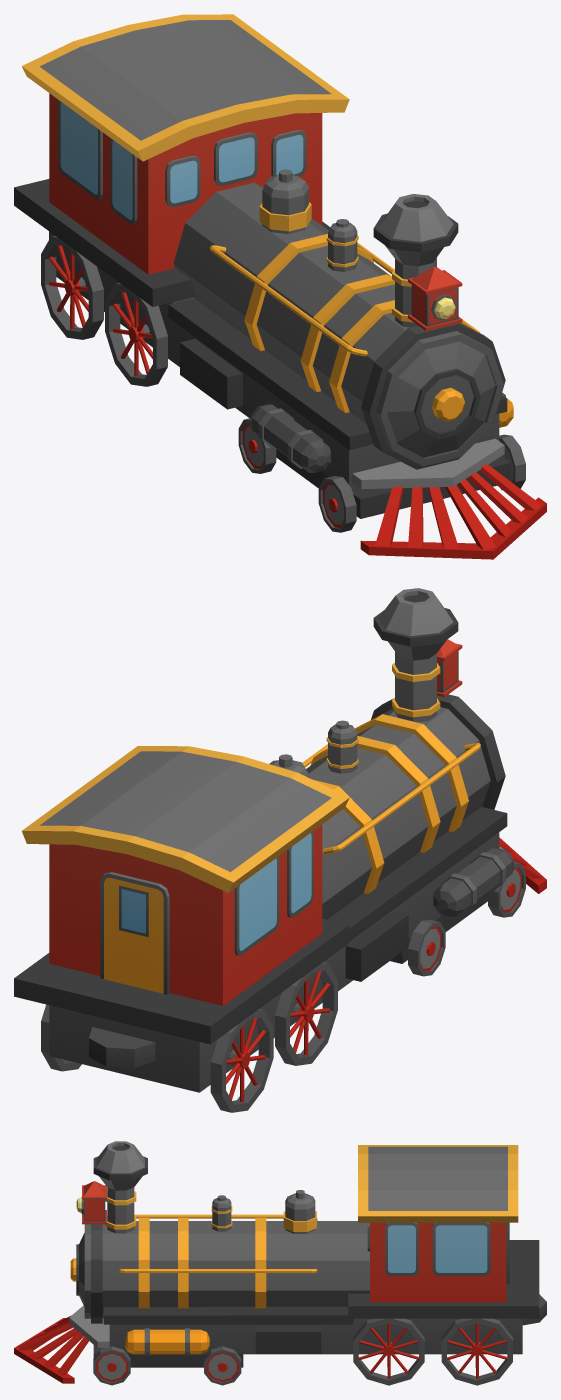
File: train.fbx
The picture shows the model from 3 angles, top to bottom: view 1: azimuth 30°, elevation 25°; view 2: azimuth 150°, elevation 25°; view 3: azimuth 270°, elevation 25°; orthographic projection. The views are drawn at different scales.
Parts seen in each view (by area): view 1: train body, rear wheels 1, rear wheels 2, front wheels 1, front wheels 2; view 2: train body, rear wheels 2, rear wheels 1, front wheels 2, front wheels 1; view 3: train body, rear wheels 1, rear wheels 2, front wheels 2, front wheels 1.
Part boxes in pixels (left/top/right/bottom): train body: left=14, top=14, right=546, bottom=559; rear wheels 1: left=105, top=282, right=167, bottom=386; rear wheels 2: left=41, top=236, right=103, bottom=339; front wheels 1: left=318, top=434, right=525, bottom=532; front wheels 2: left=238, top=418, right=276, bottom=473; train body: left=14, top=588, right=546, bottom=1092; rear wheels 2: left=41, top=1004, right=273, bottom=1112; rear wheels 1: left=275, top=962, right=337, bottom=1065; front wheels 2: left=408, top=919, right=445, bottom=976; front wheels 1: left=488, top=862, right=525, bottom=917; train body: left=14, top=1141, right=546, bottom=1383; rear wheels 1: left=353, top=1318, right=424, bottom=1385; rear wheels 2: left=441, top=1318, right=512, bottom=1385; front wheels 2: left=204, top=1346, right=241, bottom=1385; front wheels 1: left=93, top=1346, right=130, bottom=1385.
Bounding box in the file's own units: 405 × 545 × 1264.
